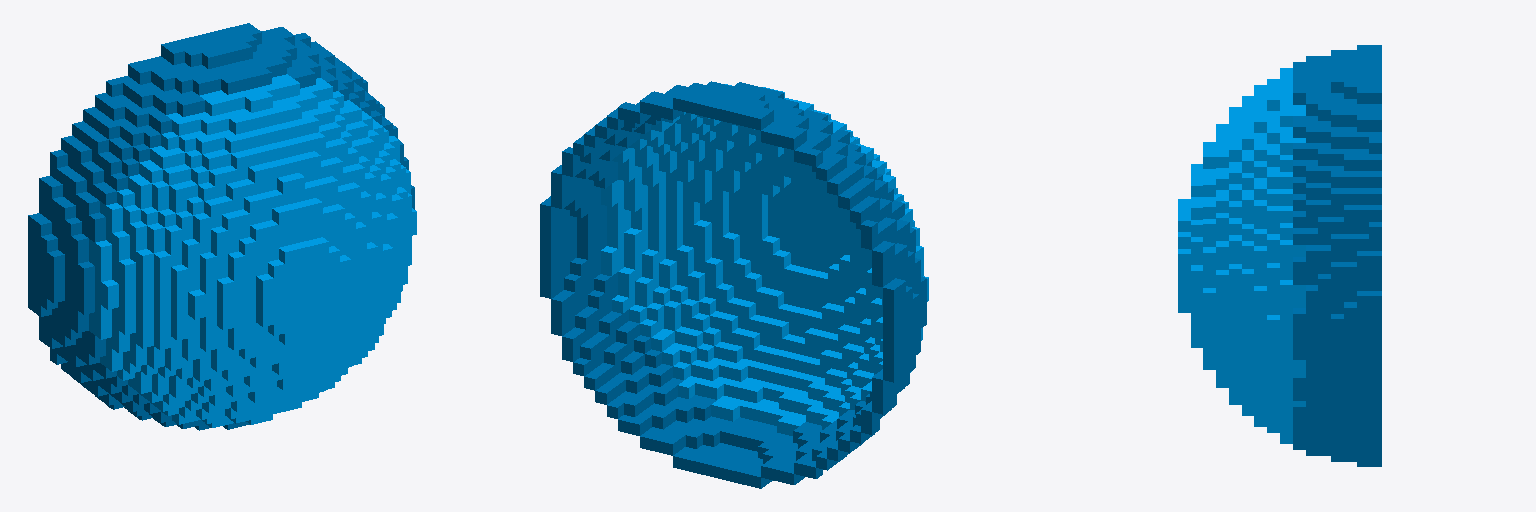
The picture shows the model from 3 angles: view 1: azimuth 30°, elevation 25°; view 2: azimuth 150°, elevation 25°; view 3: azimuth 270°, elevation 25°; orthographic projection.
Visible parts, largest first — view 1: object 1; view 2: object 1; view 3: object 1.
Boxes of the visible parts, x1=… form: object 1: x1=28, y1=23, x2=416, y2=430; object 1: x1=540, y1=81, x2=928, y2=488; object 1: x1=1178, y1=45, x2=1381, y2=466.
Bounding box in the file's own units: 3.2 × 3.2 × 1.6.
1 materials, 1 textured.